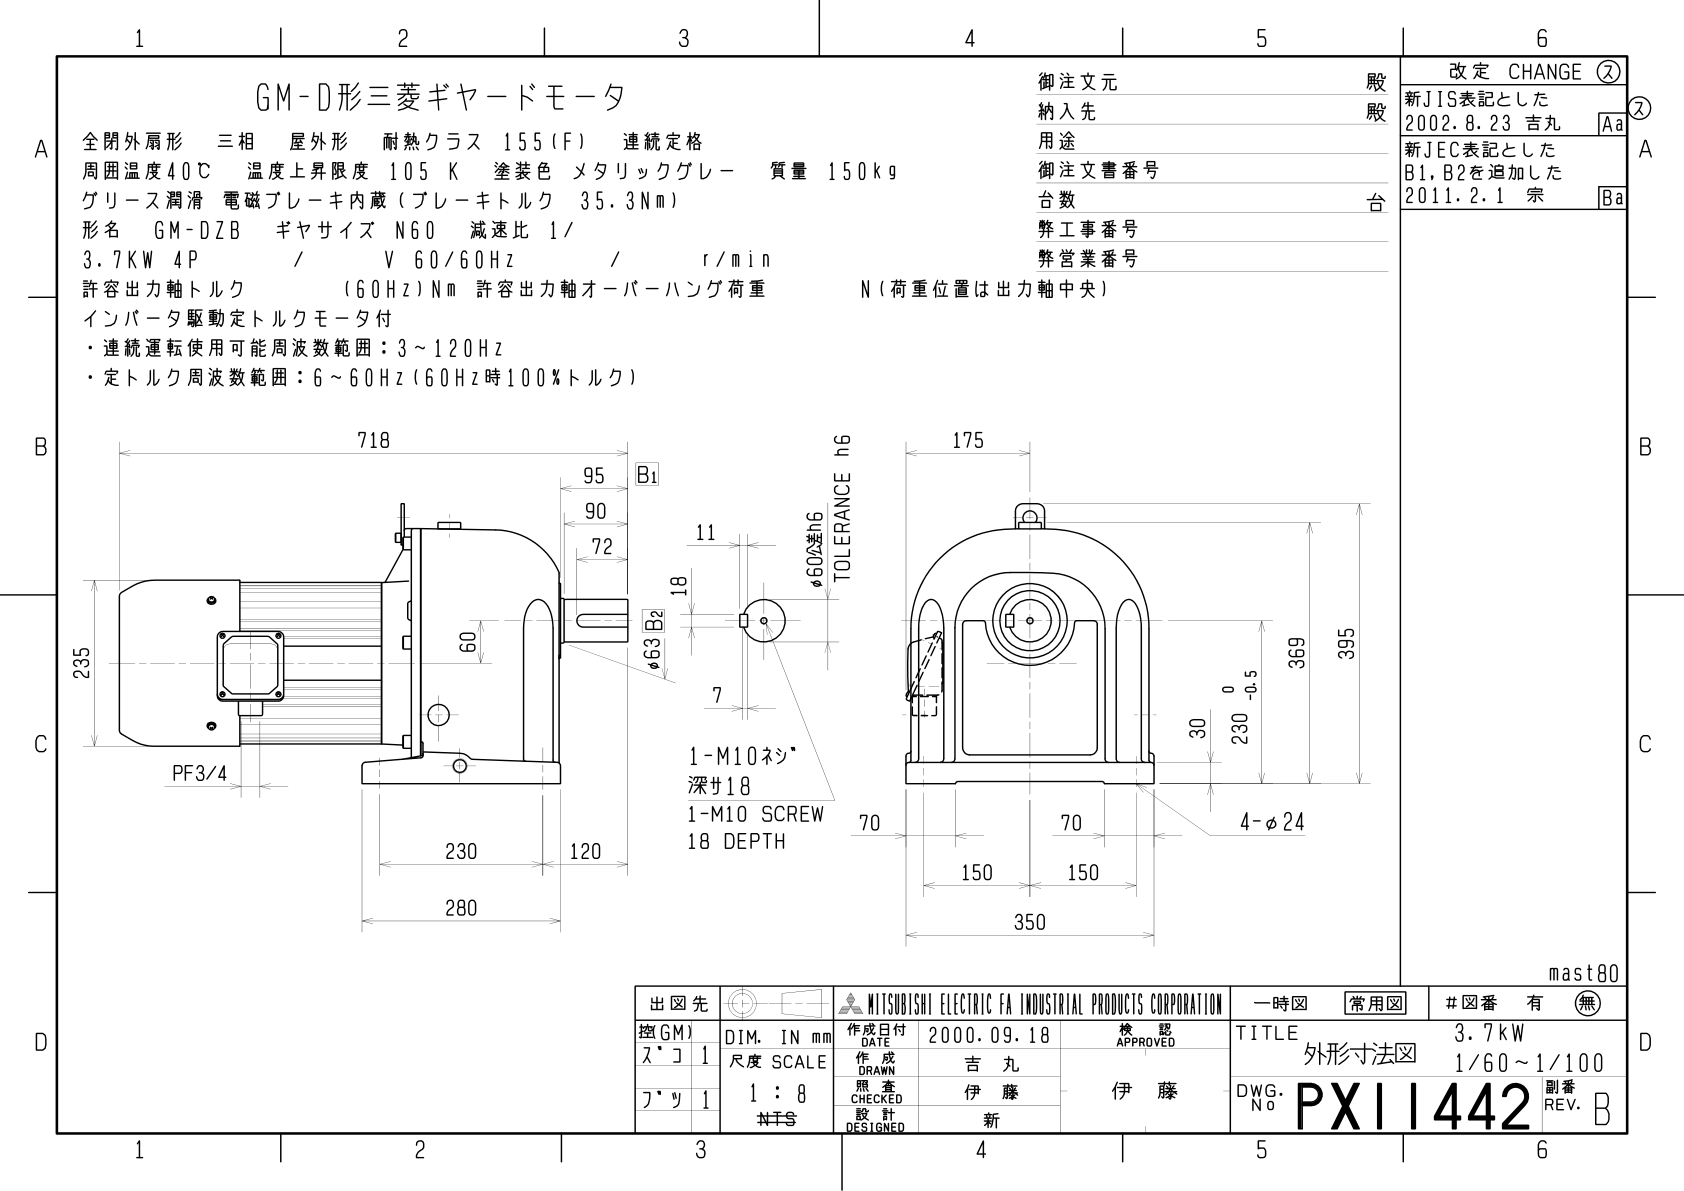GM_D_インバータ屋外_三相_脚: (61, 396, 1389, 978)
